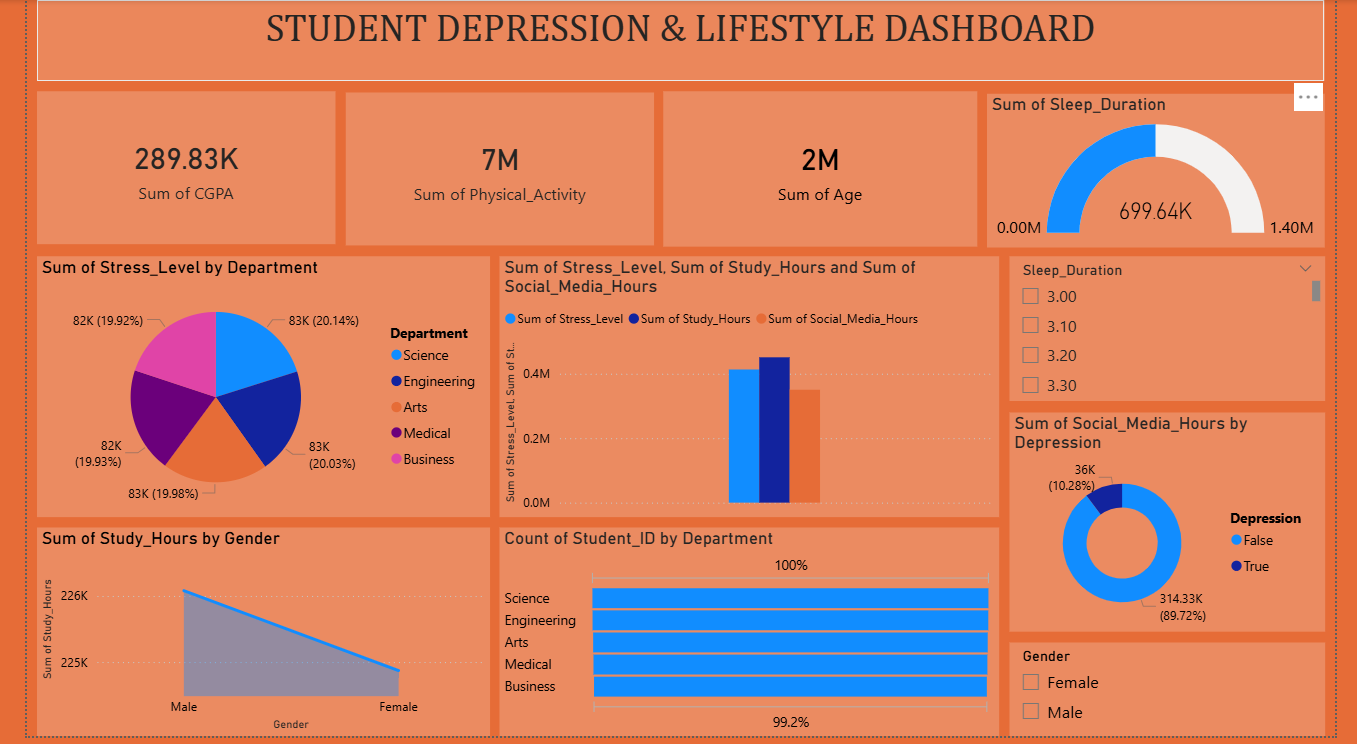

The page's visual inventory and layout, read from the dashboard file:
{"tool":"powerbi","page":{"name":"Page 1","canvas":[1280,720],"ordinal":0},"visuals":[{"type":"textbox","box":[9.6,0,1259.7,79.6],"z":0},{"type":"card","fields":{"Values":["Sum(student_lifestyle_100k.CGPA)"]},"box":[9.6,89.2,292.3,149.6],"z":1000},{"type":"card","fields":{"Values":["Sum(student_lifestyle_100k.Physical_Activity)"]},"box":[311.5,90.6,301.9,149.6],"z":2000},{"type":"card","fields":{"Values":["Sum(student_lifestyle_100k.Age)"]},"box":[623,89.2,307.4,152.3],"z":3000},{"type":"gauge","fields":{"Y":["Sum(student_lifestyle_100k.Sleep_Duration)"]},"box":[939.1,91.7,330.2,150.4],"z":4000},{"type":"pieChart","fields":{"Y":["Sum(student_lifestyle_100k.Stress_Level)"],"Category":["student_lifestyle_100k.Department"]},"box":[9.6,251.1,443.2,255.2],"z":5000},{"type":"clusteredColumnChart","fields":{"Y":["Sum(student_lifestyle_100k.Stress_Level)","Sum(student_lifestyle_100k.Study_Hours)","Sum(student_lifestyle_100k.Social_Media_Hours)"]},"box":[462.4,251.1,488.5,255.2],"z":6000},{"type":"slicer","fields":{"Values":["student_lifestyle_100k.Sleep_Duration"]},"box":[960.6,251.1,308.7,141.3],"z":7000},{"type":"areaChart","fields":{"Category":["student_lifestyle_100k.Gender"],"Y":["Sum(student_lifestyle_100k.Study_Hours)"]},"box":[10,516,443,204],"z":8000},{"type":"funnel","fields":{"Y":["CountNonNull(student_lifestyle_100k.Student_ID)"],"Category":["student_lifestyle_100k.Department"]},"box":[462.4,516,488.5,204.5],"z":9000},{"type":"slicer","fields":{"Values":["student_lifestyle_100k.Gender"]},"box":[960.6,628.5,308.7,91.9],"z":10000},{"type":"donutChart","fields":{"Category":["student_lifestyle_100k.Depression"],"Y":["Sum(student_lifestyle_100k.Social_Media_Hours)"]},"box":[960.6,403.4,308.7,214.1],"z":11000}]}

Visuals, with their boxes in screenshot pixels (x1, y1, x2, y2), scaled from the page's 1280x720 canvas onto the 1357x744 screenshot:
textbox: locate(10, 0, 1346, 82)
card - Sum(student_lifestyle_100k.CGPA): locate(10, 92, 320, 247)
card - Sum(student_lifestyle_100k.Physical_Activity): locate(330, 94, 650, 248)
card - Sum(student_lifestyle_100k.Age): locate(660, 92, 986, 250)
gauge - Sum(student_lifestyle_100k.Sleep_Duration): locate(996, 95, 1346, 250)
pieChart - Sum(student_lifestyle_100k.Stress_Level) x student_lifestyle_100k.Department: locate(10, 259, 480, 523)
clusteredColumnChart - Sum(student_lifestyle_100k.Stress_Level) x Sum(student_lifestyle_100k.Study_Hours): locate(490, 259, 1008, 523)
slicer - student_lifestyle_100k.Sleep_Duration: locate(1018, 259, 1346, 405)
areaChart - student_lifestyle_100k.Gender x Sum(student_lifestyle_100k.Study_Hours): locate(11, 533, 480, 743)
funnel - CountNonNull(student_lifestyle_100k.Student_ID) x student_lifestyle_100k.Department: locate(490, 533, 1008, 743)
slicer - student_lifestyle_100k.Gender: locate(1018, 649, 1346, 743)
donutChart - student_lifestyle_100k.Depression x Sum(student_lifestyle_100k.Social_Media_Hours): locate(1018, 417, 1346, 638)
